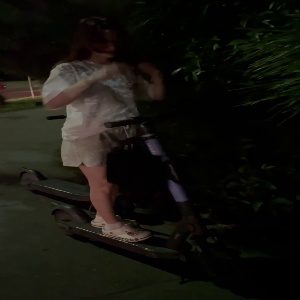human on a scooter: (36, 18, 237, 276)
